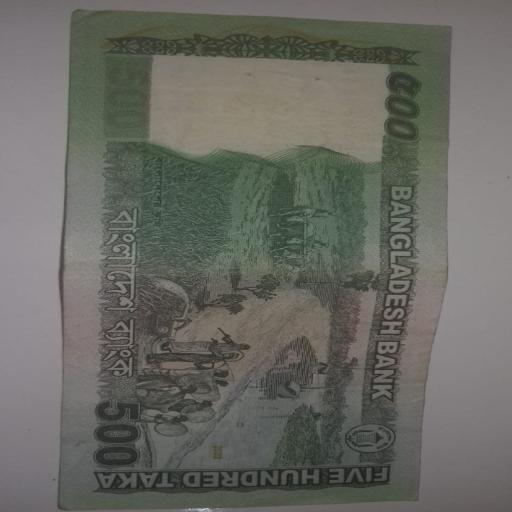500taka: (64, 8, 435, 510)
